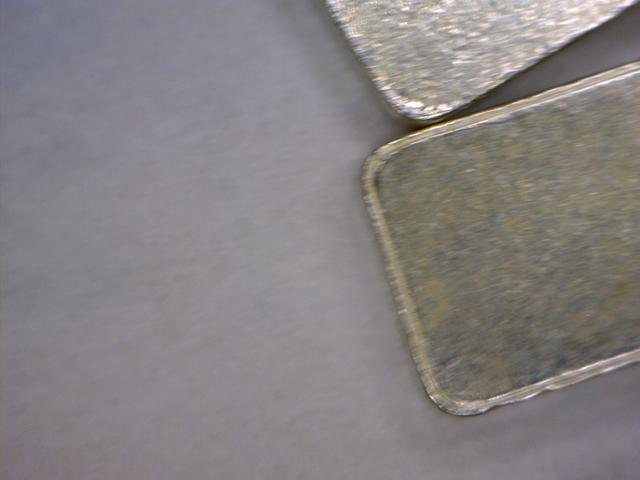nok: (352, 52, 640, 420)
